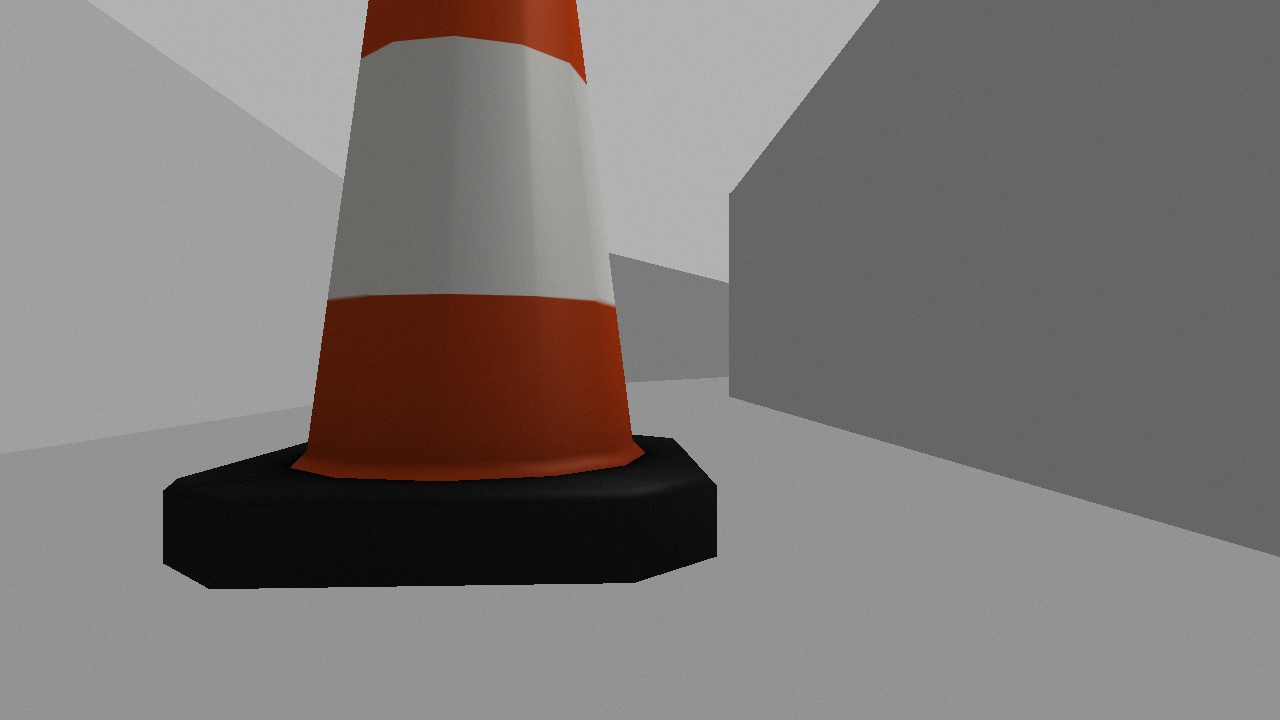barricade: (139, 1, 737, 606)
